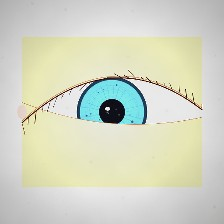pinguecula_lesion: (48, 94, 77, 117)
